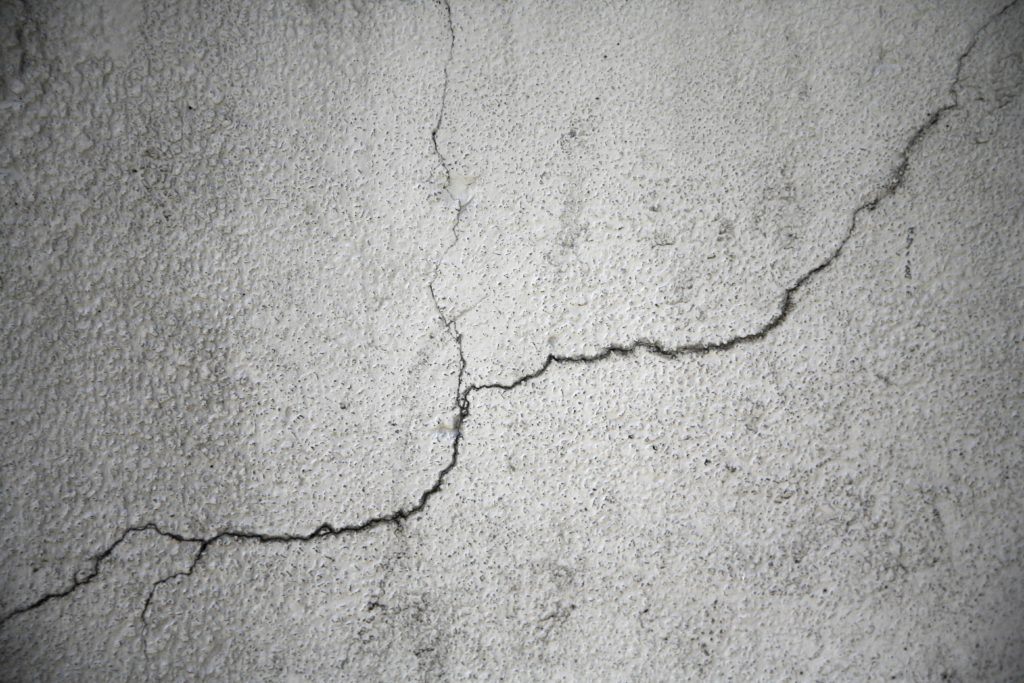crack: (0, 0, 1023, 617), (422, 0, 472, 407)
